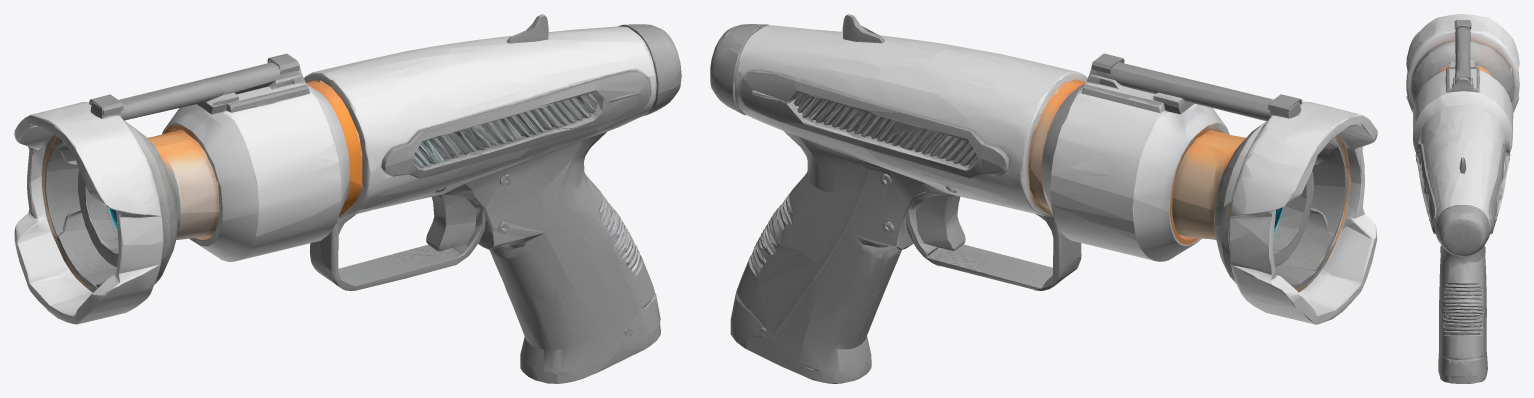
The model's file is portal_gun.glb.
3 renders of one model, left to right at view 1: azimuth 30°, elevation 25°; view 2: azimuth 150°, elevation 25°; view 3: azimuth 270°, elevation 25°, orthographic. The views are drawn at different scales.
Visible parts, largest first — view 1: mesh_node; view 2: mesh_node; view 3: mesh_node.
Part boxes in pixels (<box>): mesh_node: <box>14,14,681,383</box>; mesh_node: <box>710,14,1377,383</box>; mesh_node: <box>1406,14,1519,383</box>.
Bounding box in the file's own units: 1.9 × 1.12 × 0.5249.
1 material, 1 textured.
